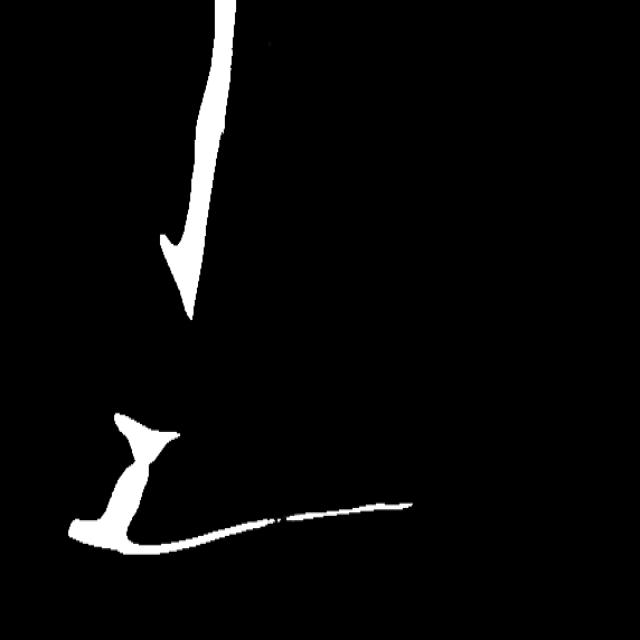inf: (264, 511, 294, 531)
